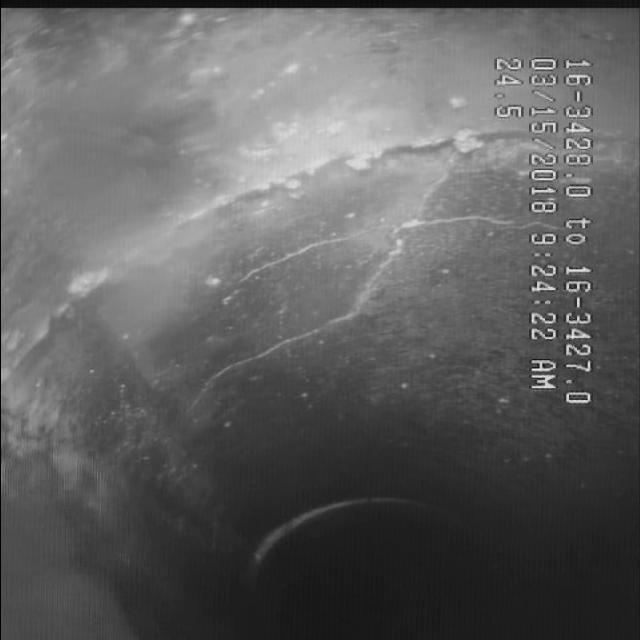Crack: (206, 168, 466, 418)
